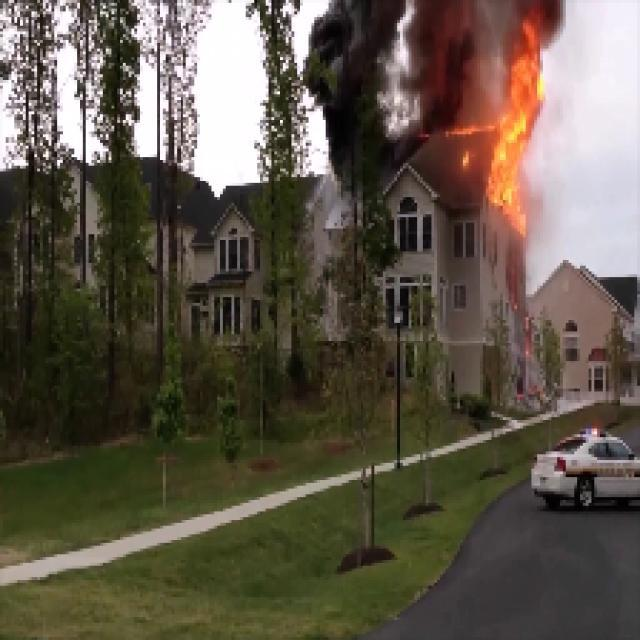Fire: (497, 58, 542, 209)
Smoke: (328, 2, 395, 174), (416, 0, 474, 128)
